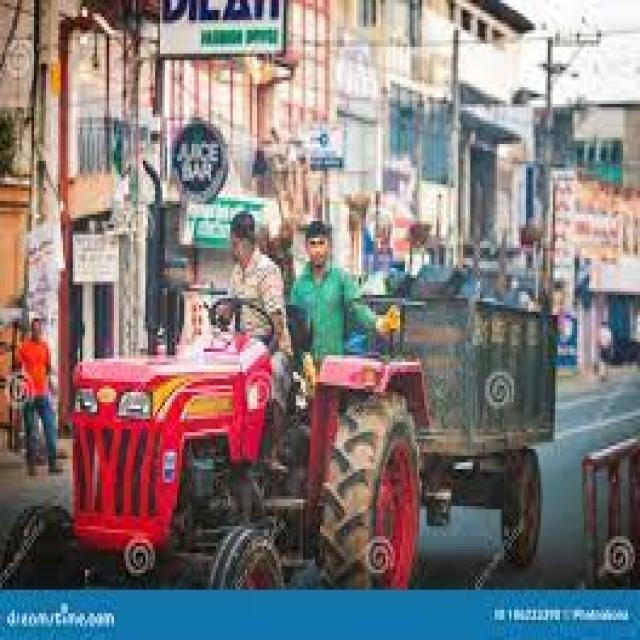person: (291, 221, 398, 362), (230, 211, 288, 459), (19, 318, 56, 476)
tractor: (0, 285, 623, 630)
